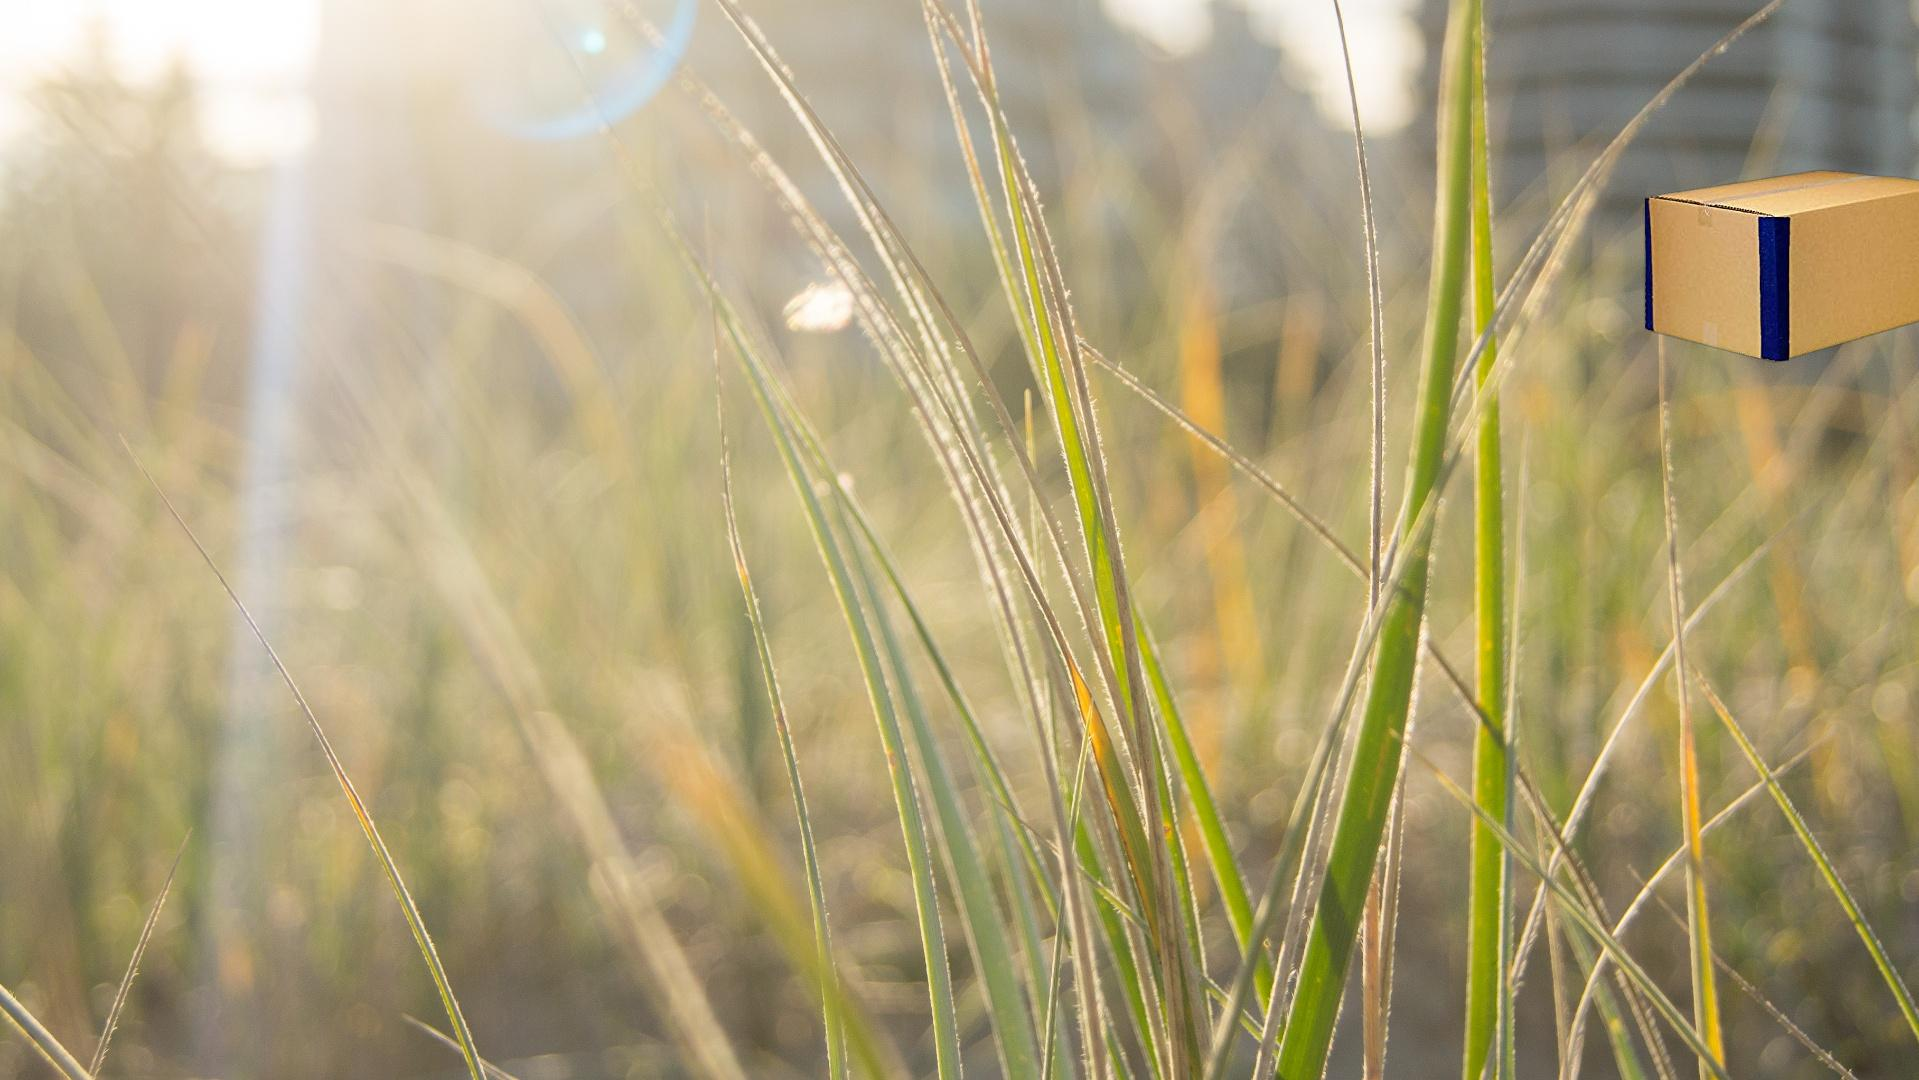trashbox-cardboard: (1640, 167, 1919, 367)
